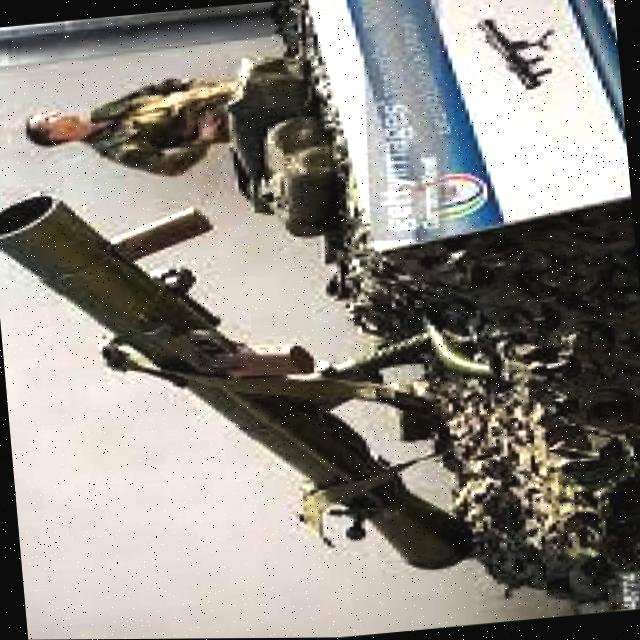rocket: (0, 156, 488, 611)
